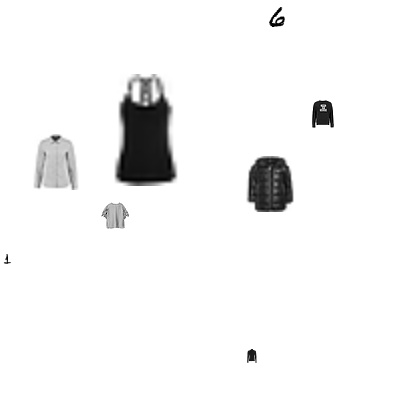1: (0, 253, 14, 267)
6: (263, 5, 291, 33)
Coat: (241, 156, 297, 212)
Pullover: (309, 100, 337, 128), (245, 349, 259, 363)
Shirt: (28, 134, 84, 190), (101, 201, 129, 229)
T-shirt/top: (88, 74, 200, 186)
